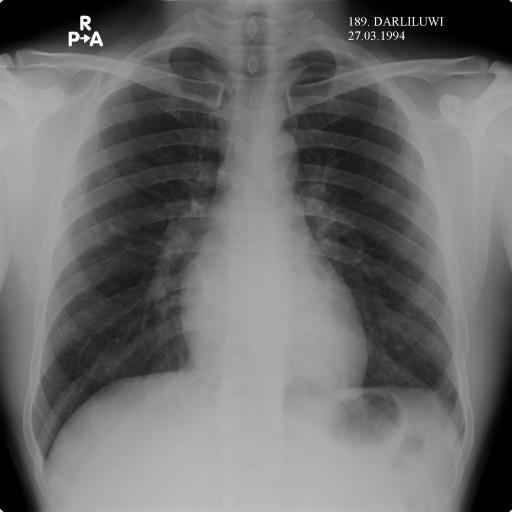normal: (23, 18, 477, 465)
